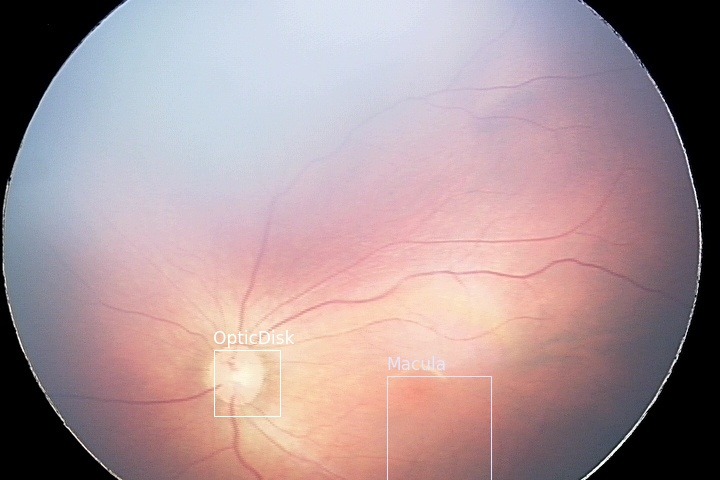Macula: (386, 375, 490, 479)
OpticDisk: (213, 349, 279, 415)
